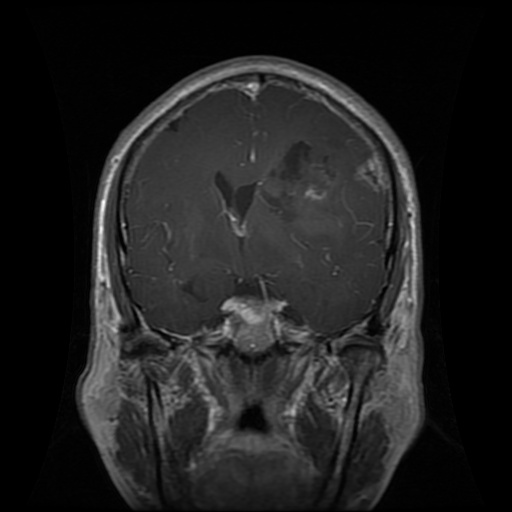glioma: (261, 139, 340, 207)
